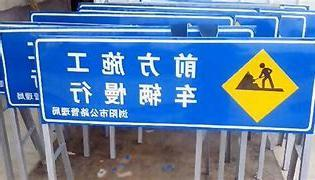sign: (34, 35, 314, 127)
